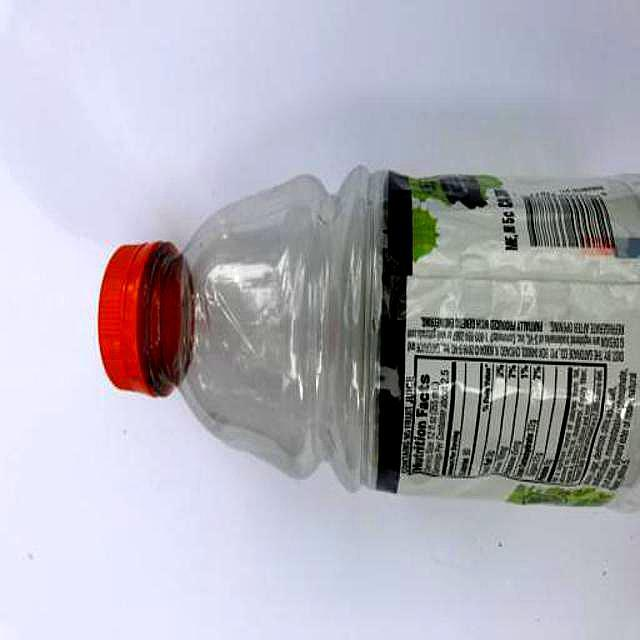Non-biodegradable: (99, 173, 640, 515)
